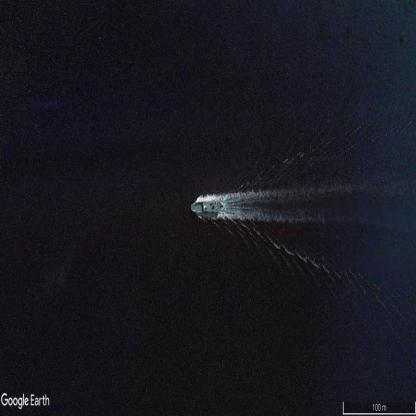ship: (191, 202, 221, 212)
